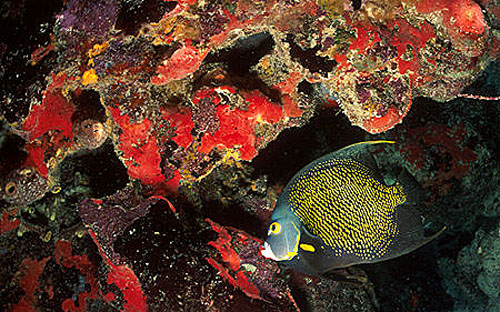Pomacanthus_paru: (263, 136, 454, 281)
